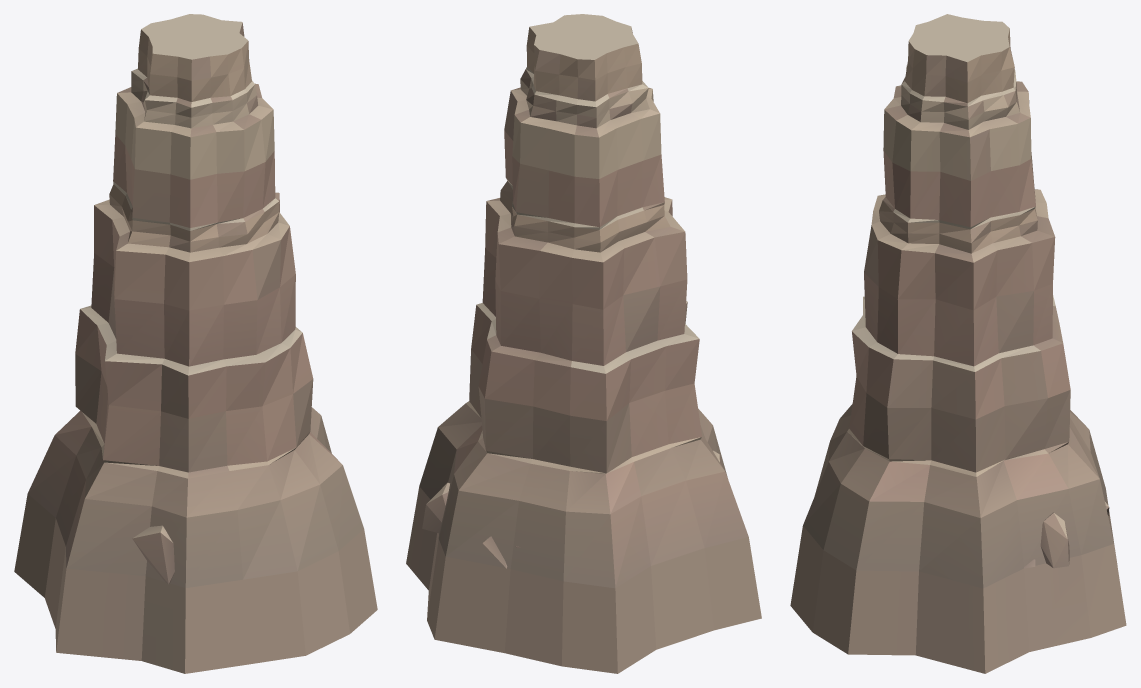
Rendered from mesa_2.glb.
3 renders of one model, left to right at view 1: azimuth 30°, elevation 25°; view 2: azimuth 150°, elevation 25°; view 3: azimuth 270°, elevation 25°, orthographic.
Bounding box in the file's own units: 21.21 × 35 × 19.17.
